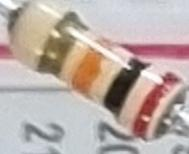Black: (101, 54, 155, 122)
Orange: (65, 34, 123, 99)
Red: (128, 68, 184, 141)
Side-Gold: (32, 8, 91, 74)
